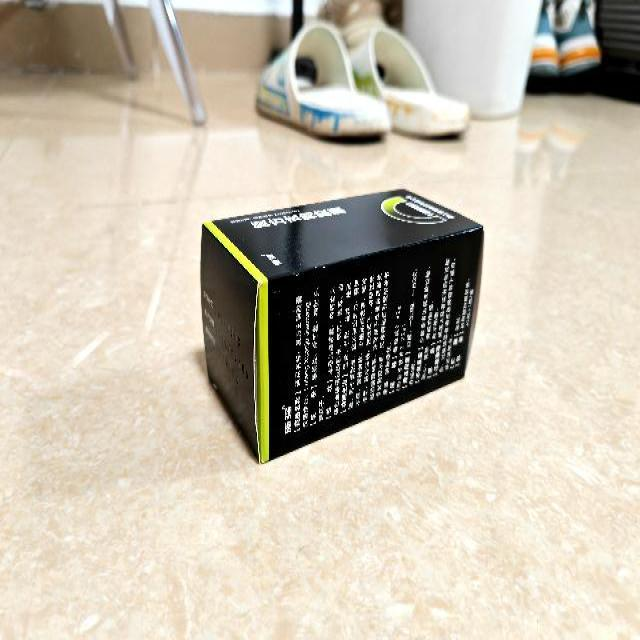box: (199, 186, 487, 462)
